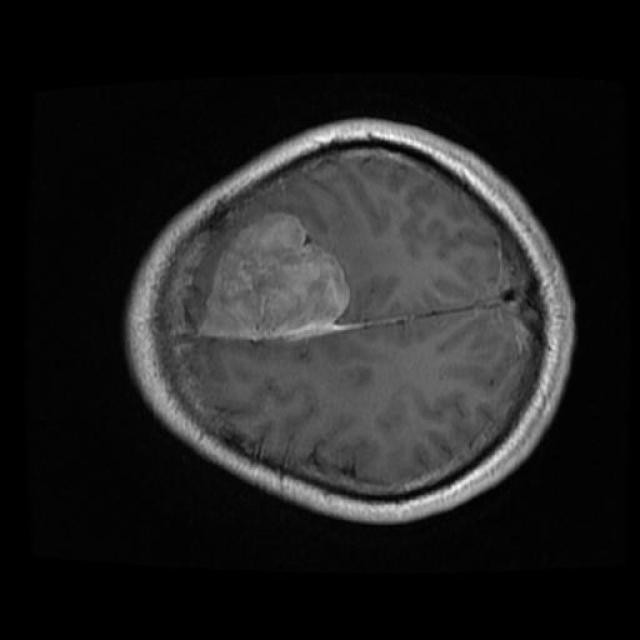Meningioma: (199, 213, 349, 340)
